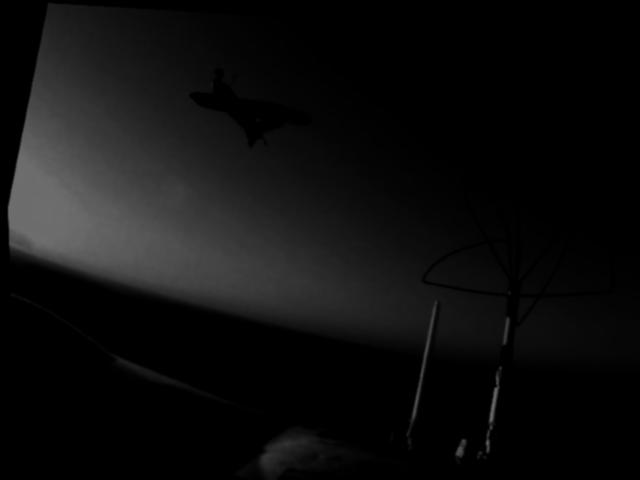hedef: (158, 43, 329, 159)
